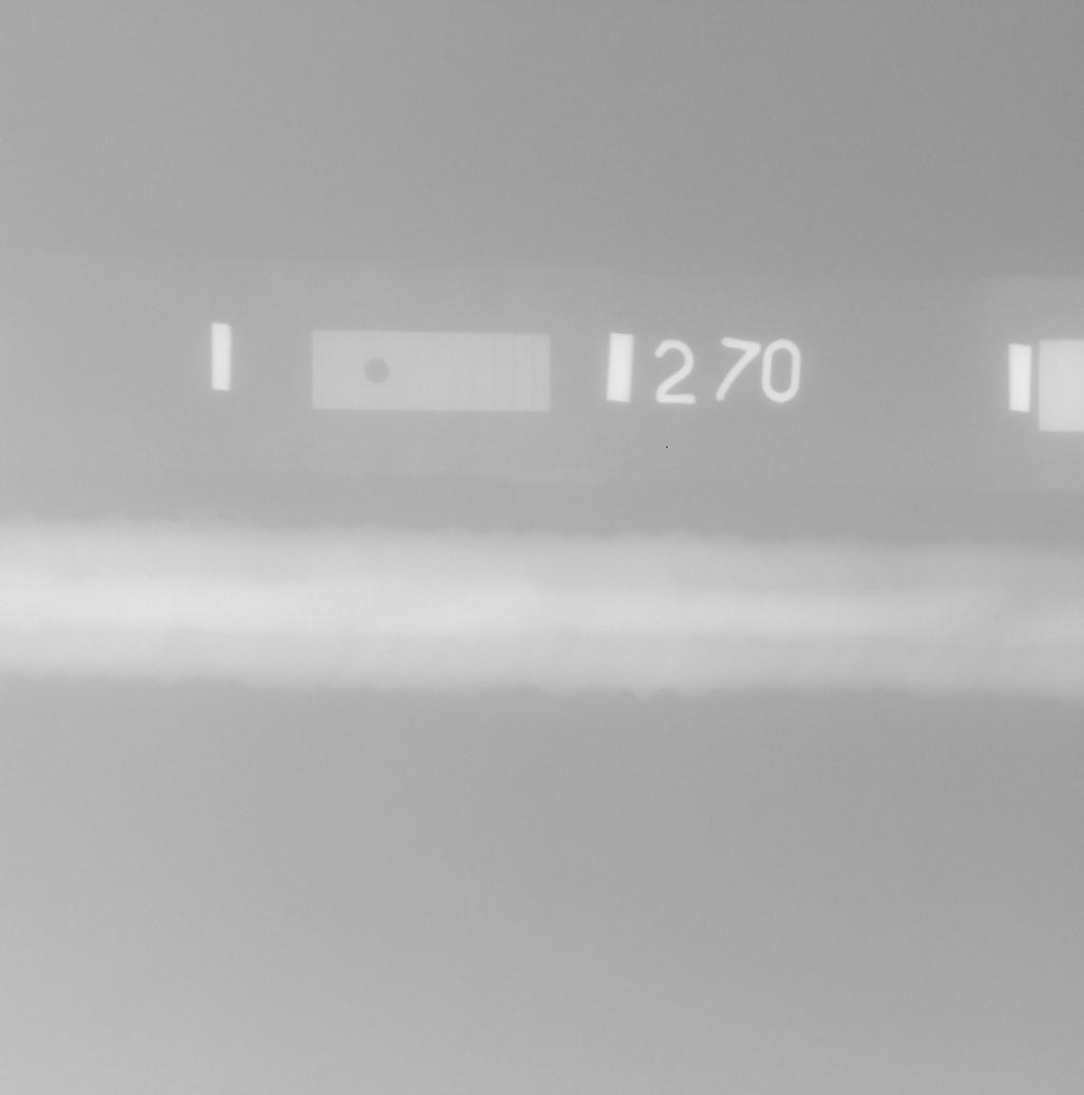Pore/Porosity: (985, 615, 1000, 619)
Reference Standard 1: (311, 331, 550, 412)
